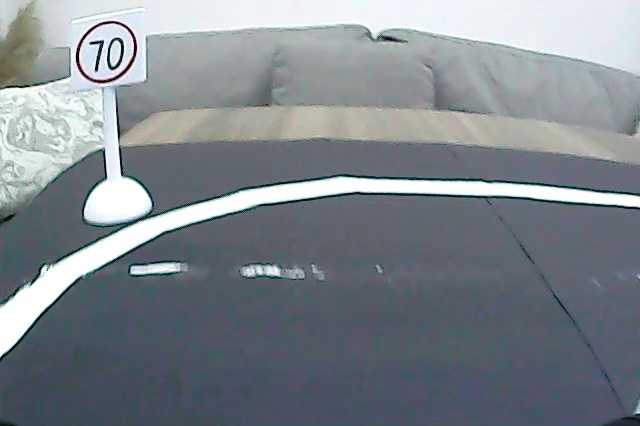speed limit 70: (74, 17, 140, 87)
